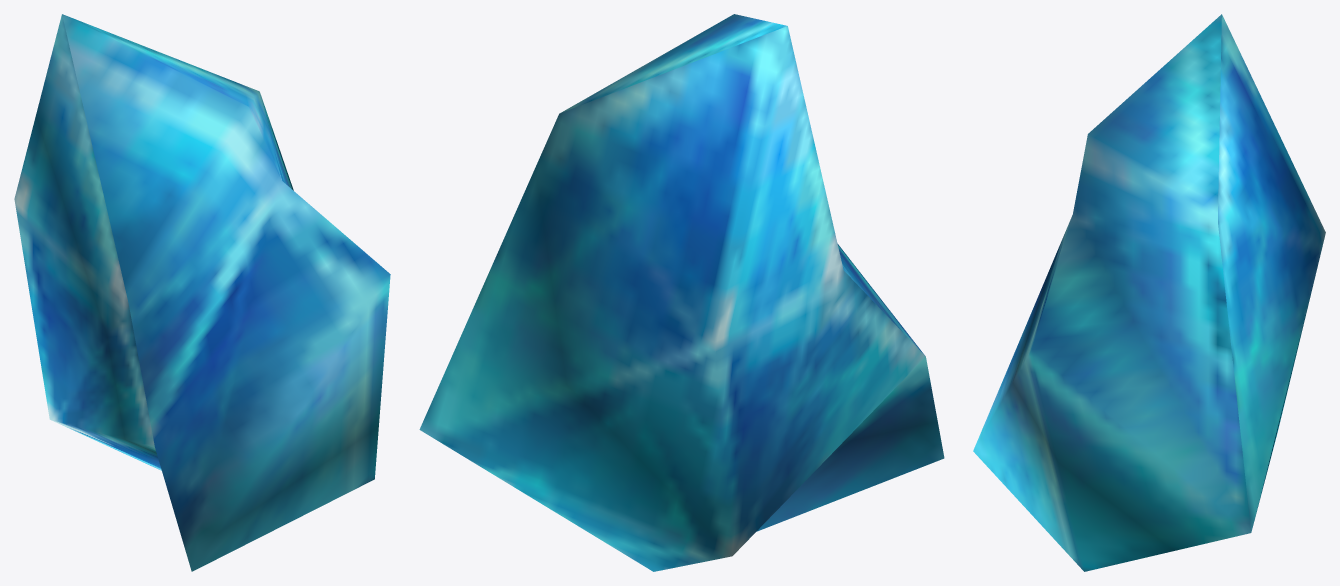
File: SM_crystal_06.fbx
3 renders of one model, left to right at view 1: azimuth 30°, elevation 25°; view 2: azimuth 150°, elevation 25°; view 3: azimuth 270°, elevation 25°, orthographic. The views are drawn at different scales.
Visible parts, largest first — view 1: SM_crystal_06; view 2: SM_crystal_06; view 3: SM_crystal_06.
Boxes of the visible parts, bbox=[...] form: SM_crystal_06: bbox=[14, 14, 390, 571]; SM_crystal_06: bbox=[419, 14, 944, 571]; SM_crystal_06: bbox=[973, 14, 1325, 571].
Bounding box in the file's own units: 0.4996 × 0.7619 × 0.5223.
